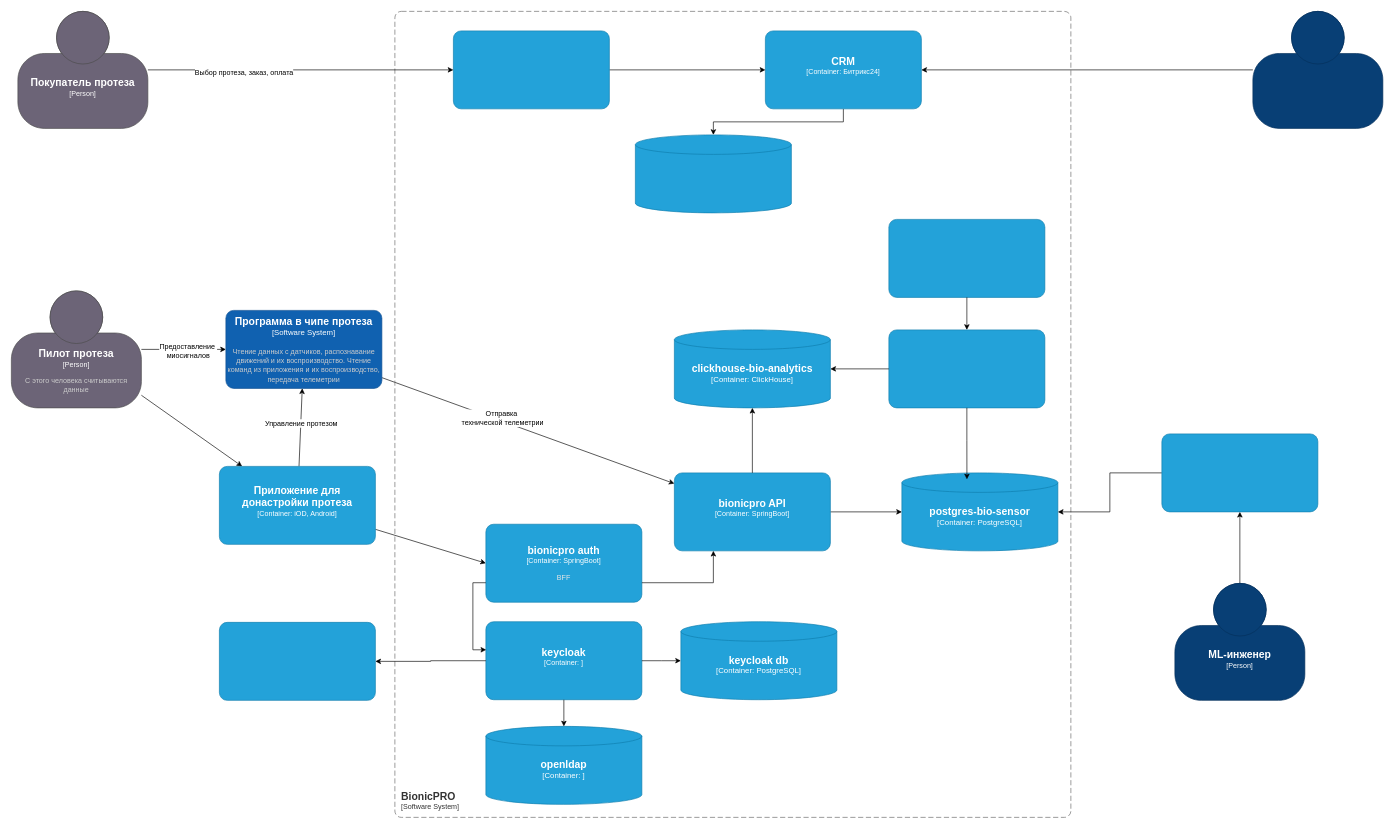
The diagram is 1394 pixels wide and 829 high, and some of its shapes have lost their labels. Here are the shapes that lost their labels. From the top down, the centre of each, then its label:
At (x=531, y=69): "Интернет-магазин [Container: Битрикс24]".
At (x=1317, y=69): "Оператор производства [Person]".
At (x=713, y=173): "CRM DB [Container: e.g. Oracle Database 12]".
At (x=966, y=258): "airflow-webserver [Container: ]".
At (x=966, y=368): "airflow-scheduler [Container: ]".
At (x=1239, y=472): "cli tool [Container: e.g. SpringBoot, ElasticSearch, etc.]".
At (x=297, y=661): "External IDP Yandex [Container: ]".
